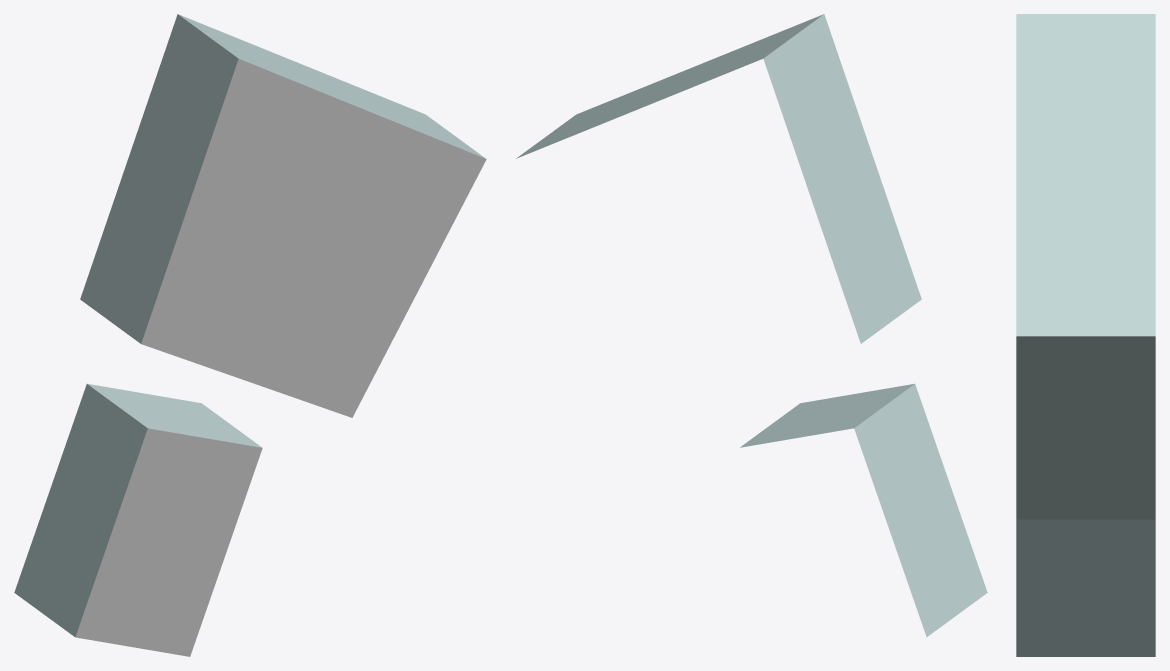
The picture shows the model from 3 angles, left to right: view 1: azimuth 30°, elevation 25°; view 2: azimuth 150°, elevation 25°; view 3: azimuth 270°, elevation 25°; orthographic projection. The views are drawn at different scales.
Visible parts, largest first — view 1: 0_1_0_1_0_1_3_1_1; view 2: 0_1_0_1_0_1_3_1_1; view 3: 0_1_0_1_0_1_3_1_1.
Boxes of the visible parts, box(x1,y1,x2,y2) form: 0_1_0_1_0_1_3_1_1: box(14, 14, 486, 656); 0_1_0_1_0_1_3_1_1: box(516, 14, 987, 636); 0_1_0_1_0_1_3_1_1: box(1016, 14, 1155, 656).
Size of the model in its own units: 11.68 by 15.91 by 3.
